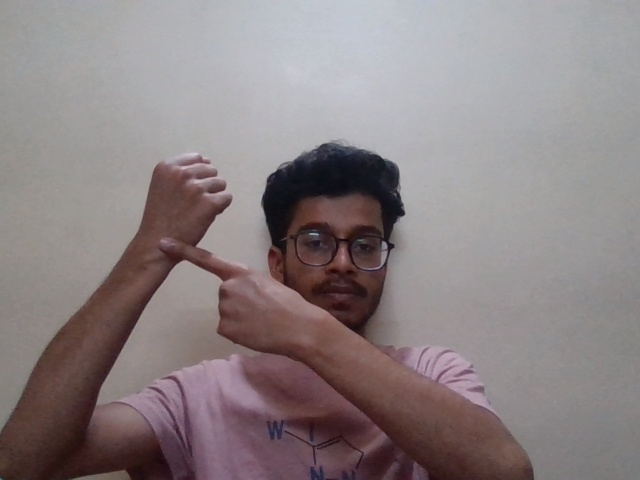time: (132, 147, 280, 373)
